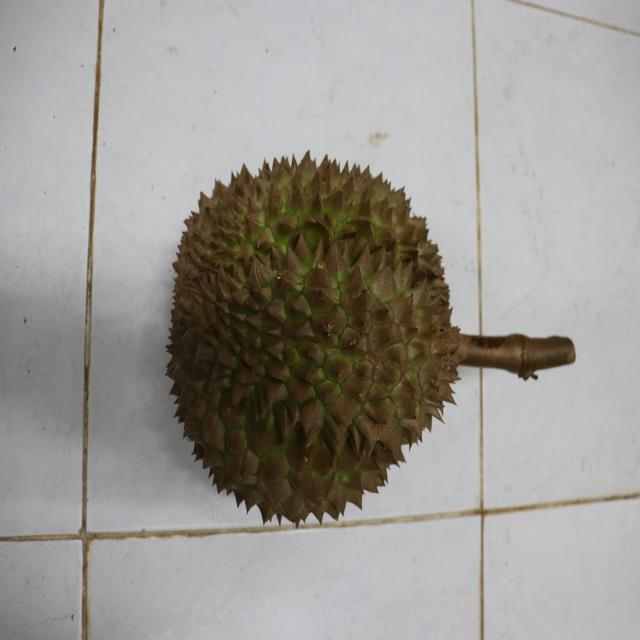mature: (166, 147, 462, 524)
